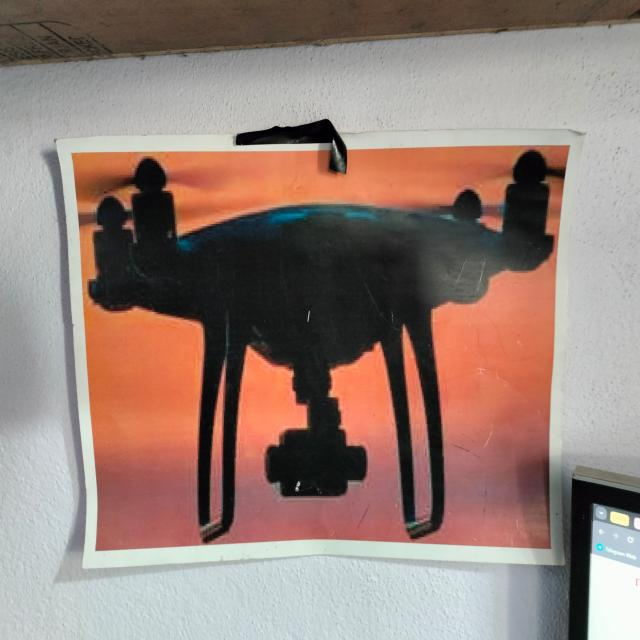drone: (77, 143, 549, 526)
